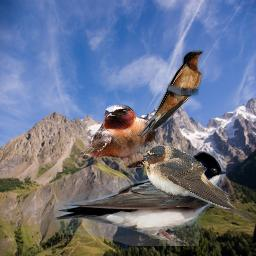Swallow: (54, 151, 226, 246), (142, 145, 236, 209), (137, 49, 205, 137), (80, 105, 155, 168)
